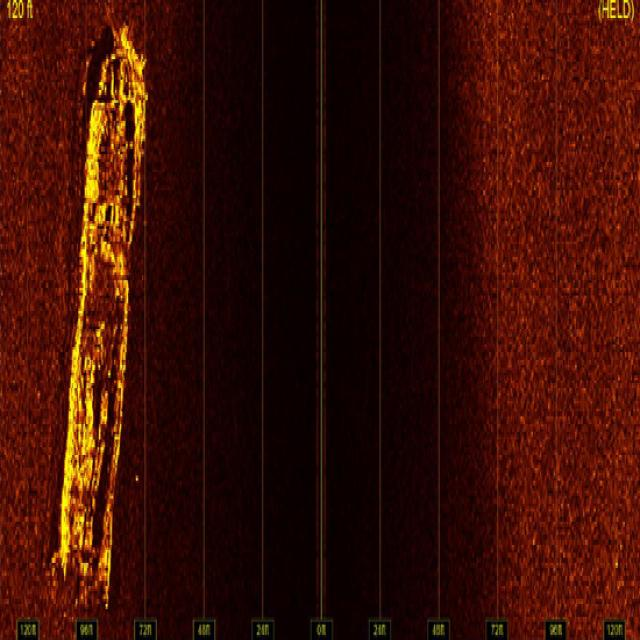ship: (59, 15, 149, 612)
